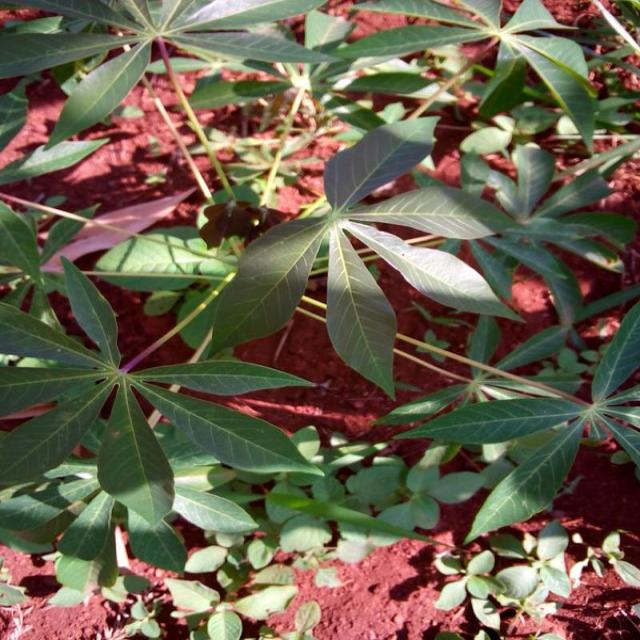cassava leaf: (2, 1, 639, 635), (204, 113, 526, 400)
